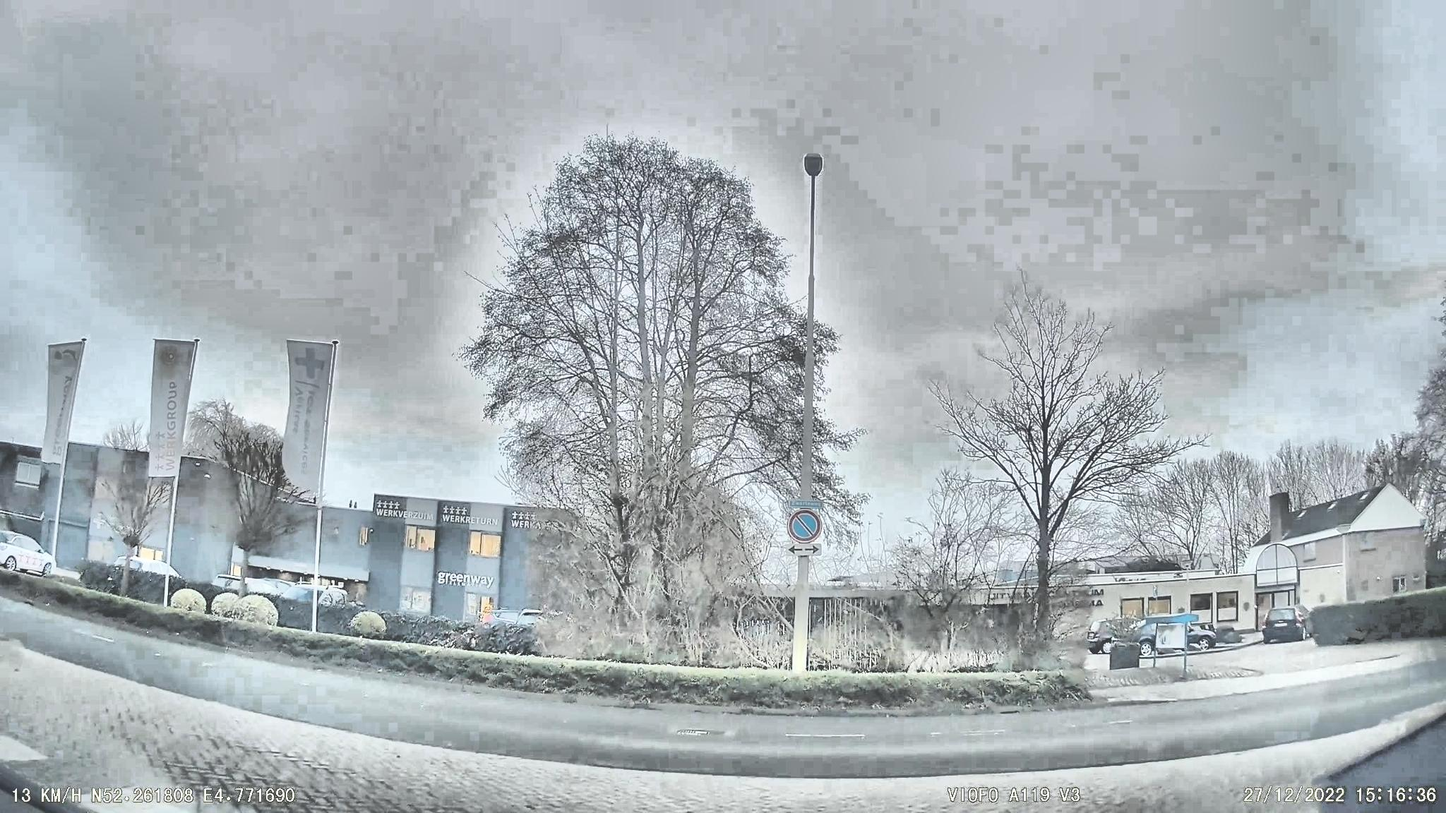Roads: (0, 587, 1446, 813)
